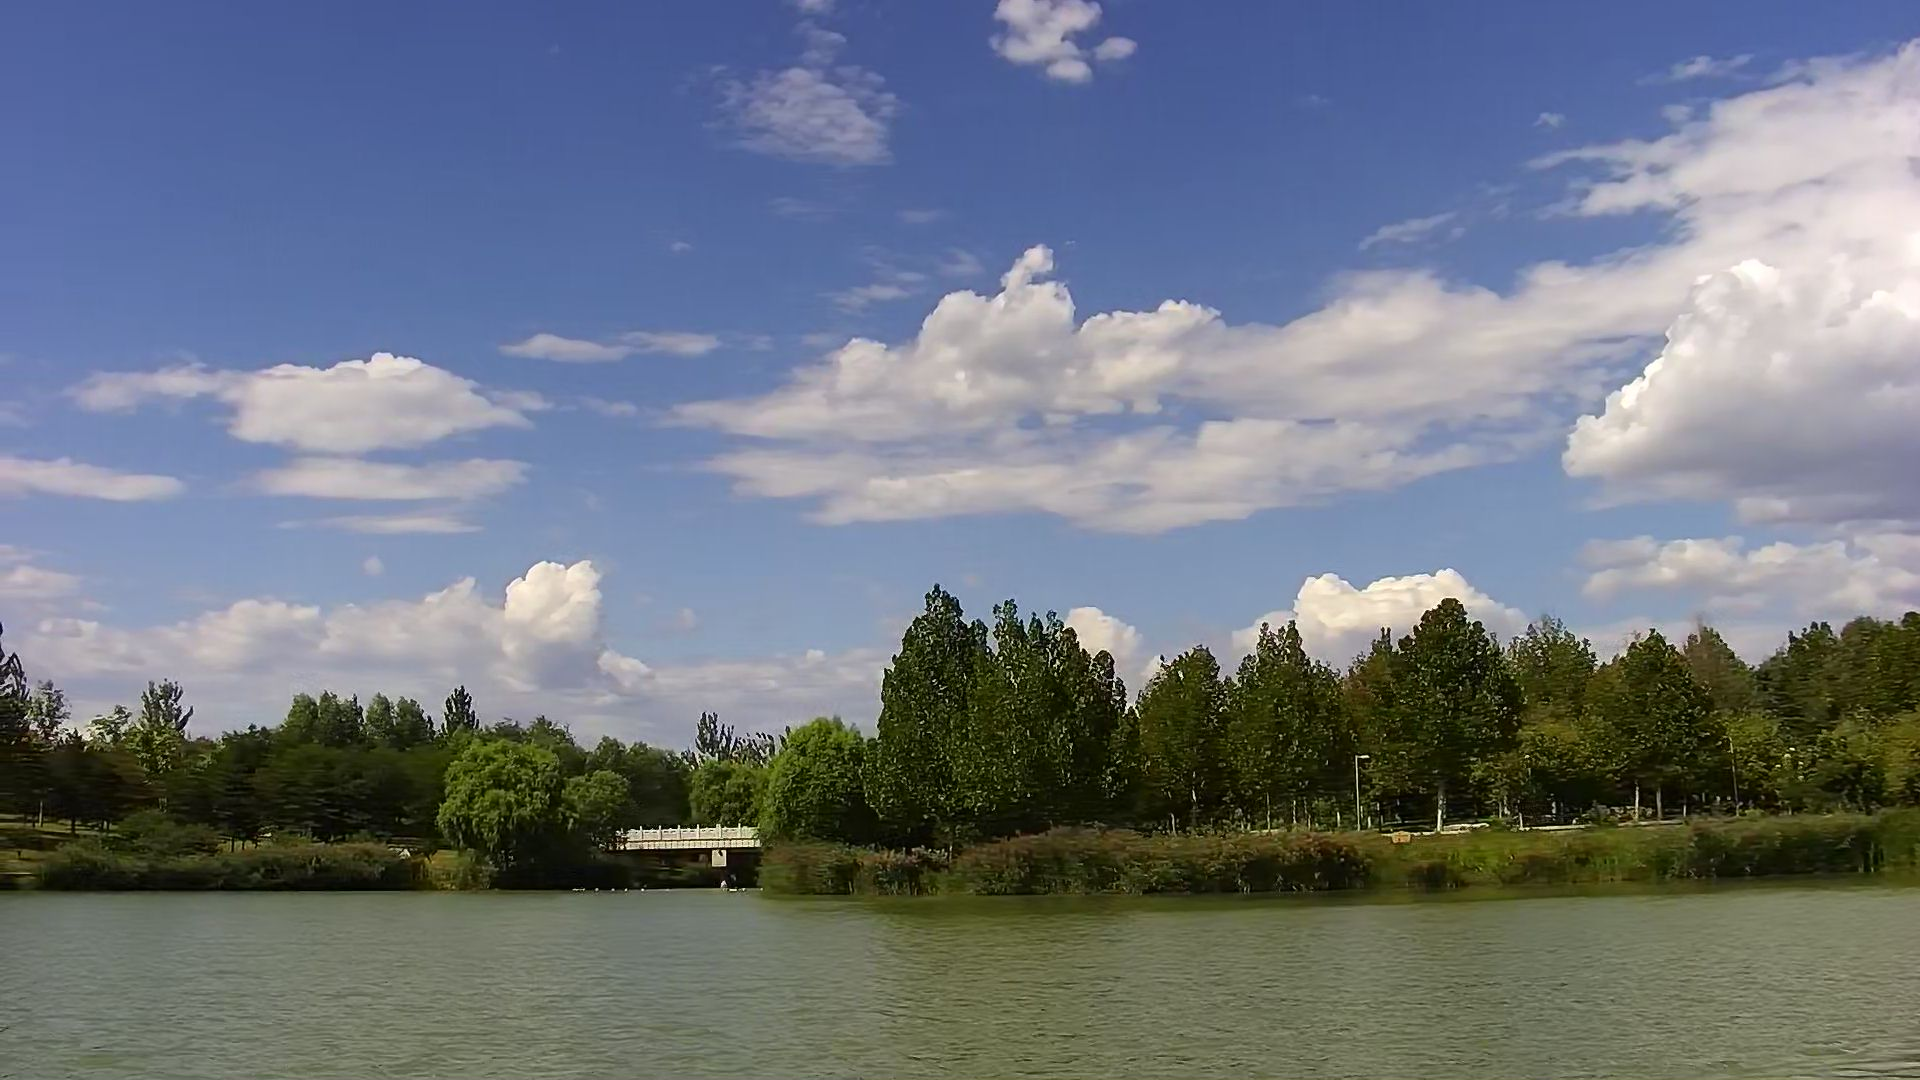bridge: (621, 822, 752, 887)
